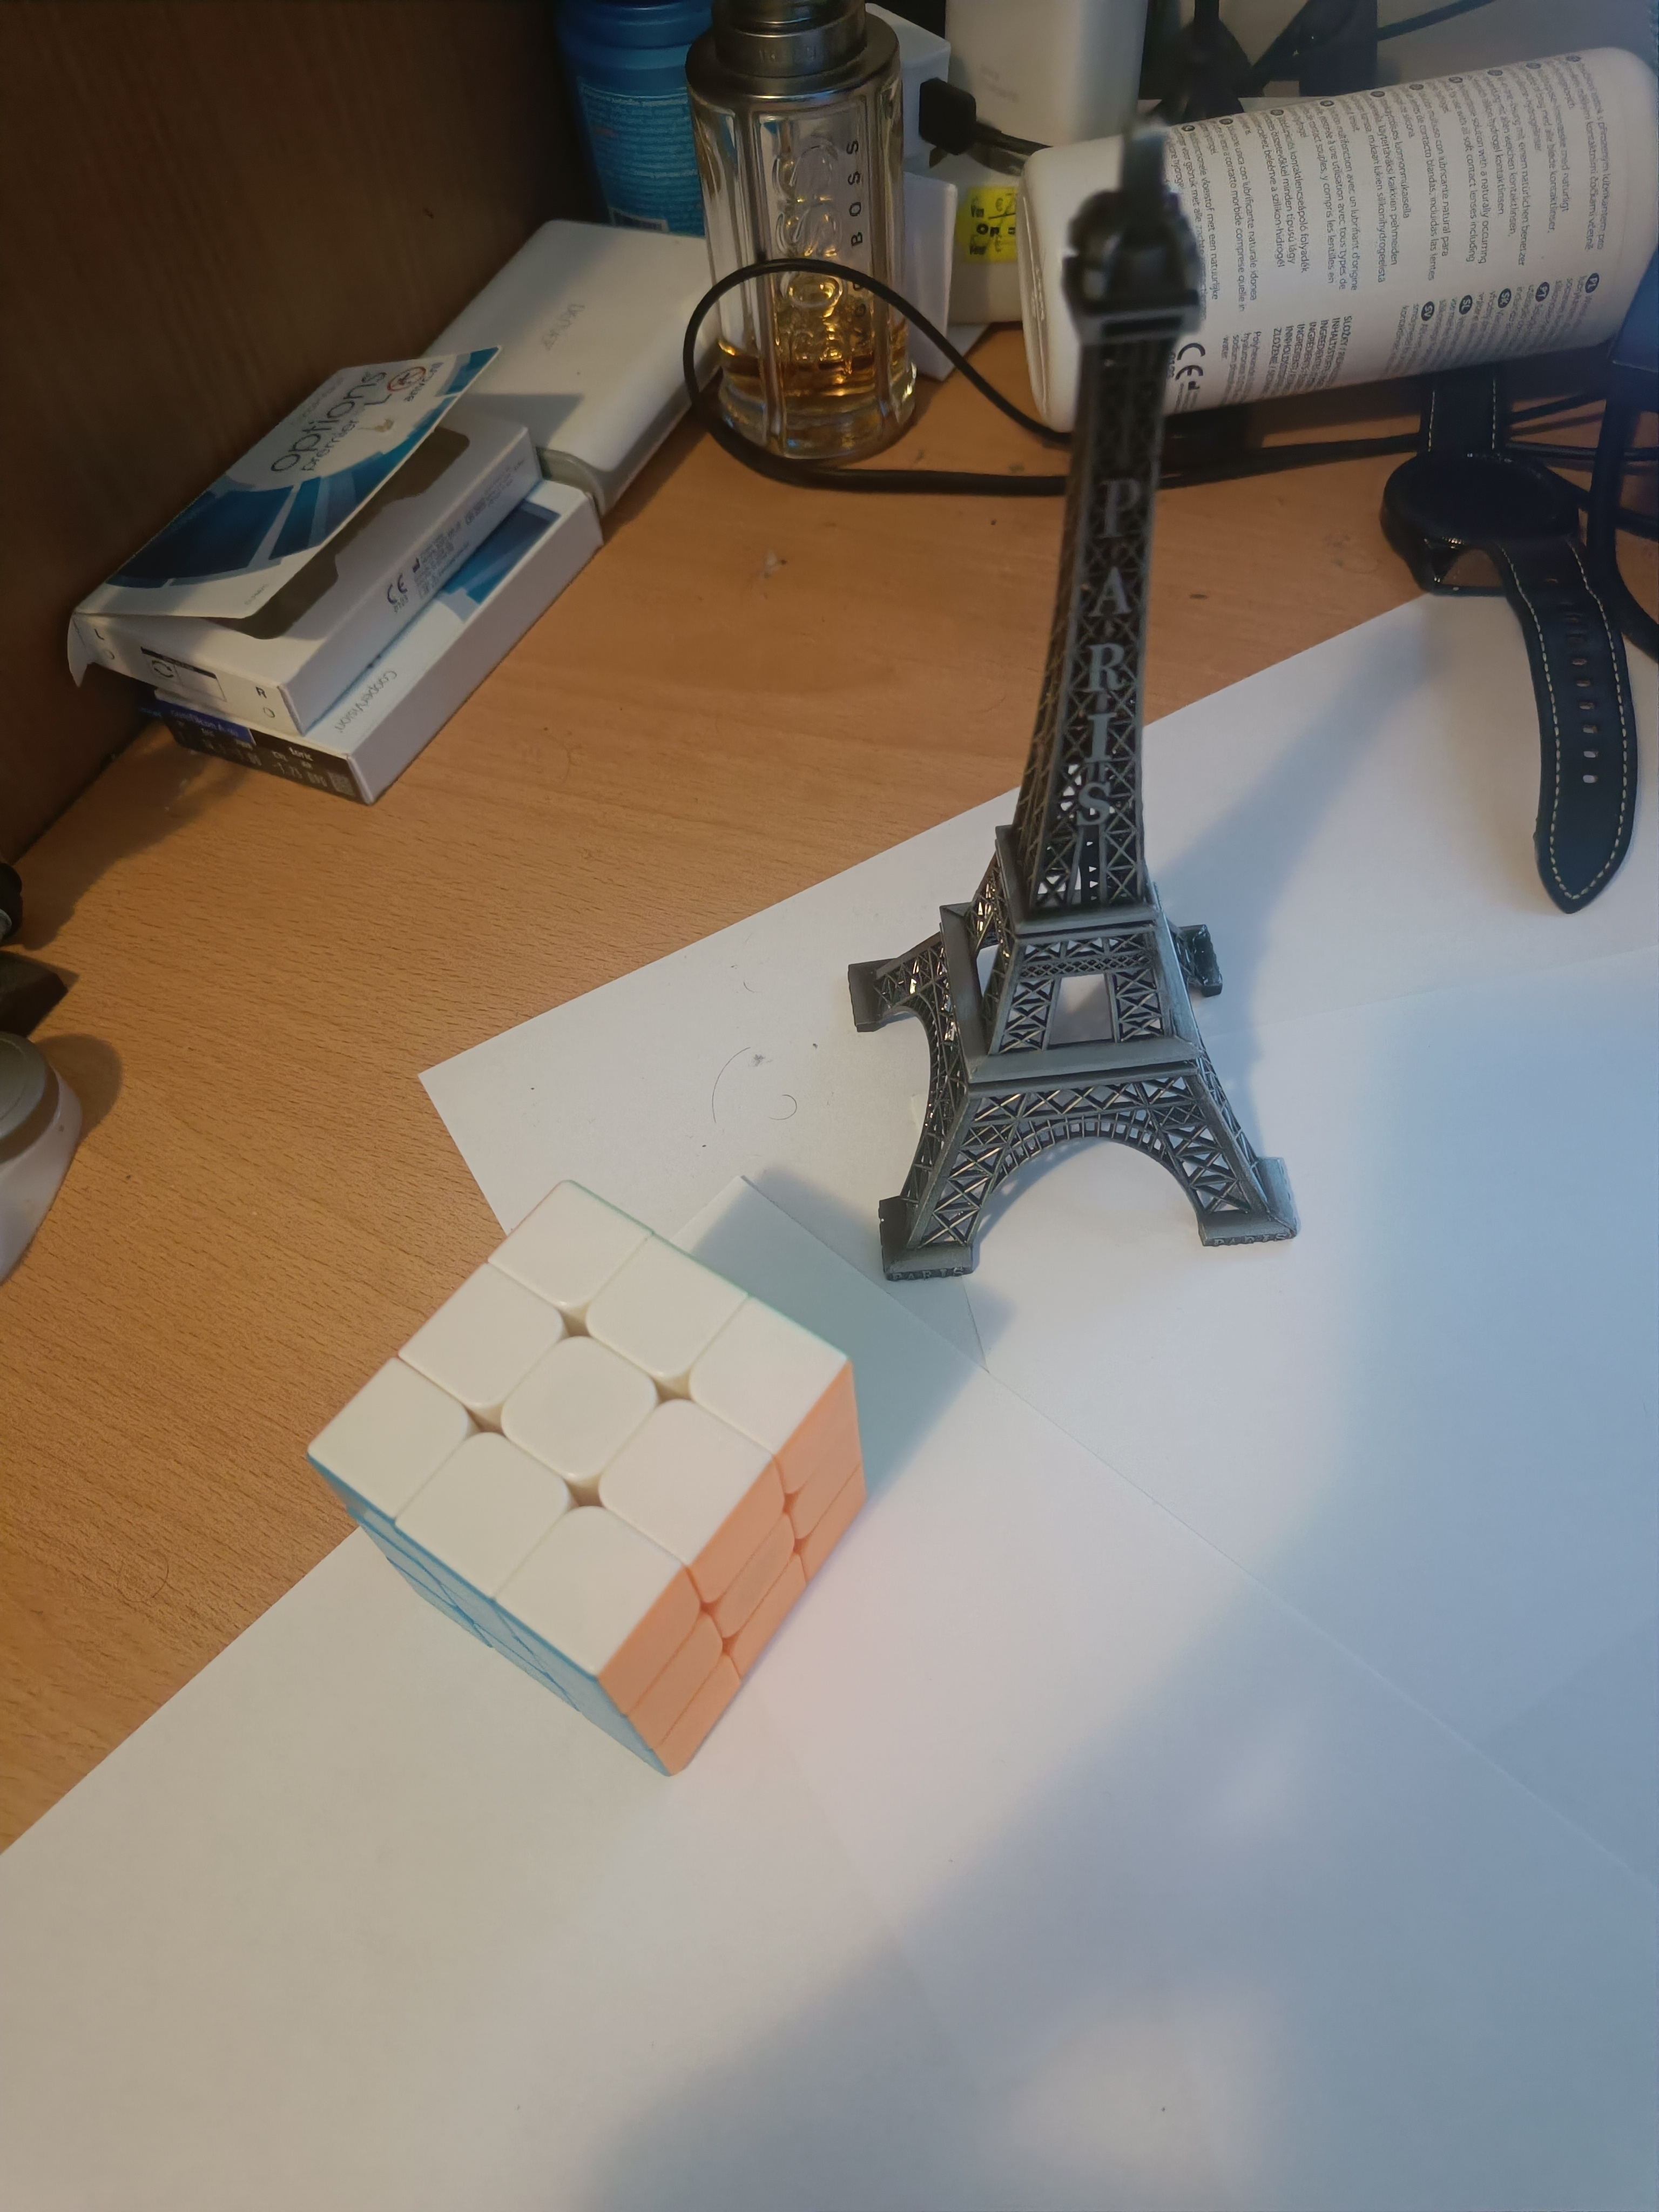Eiffel Tower: (838, 115, 1312, 1306)
Rubiks Cube: (291, 1150, 880, 1801)
